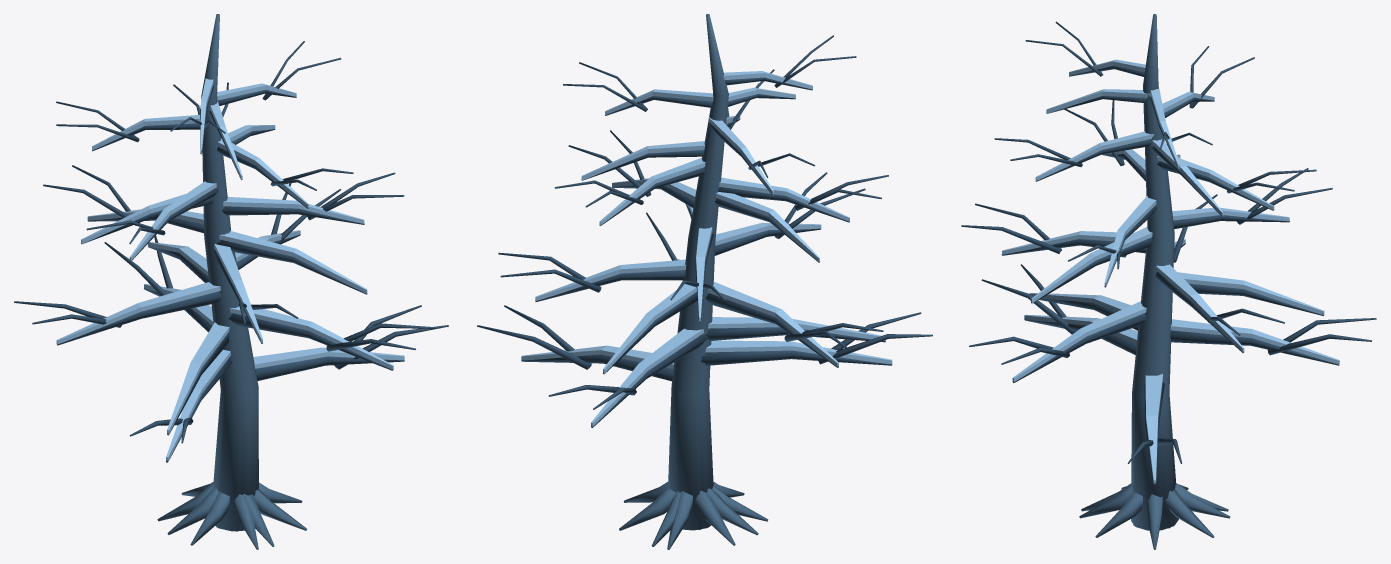
The model's file is tree_willow.glb.
3 views of the same model, side by side, from view 1: azimuth 30°, elevation 25°; view 2: azimuth 150°, elevation 25°; view 3: azimuth 270°, elevation 25° (orthographic). The views are drawn at different scales.
Parts seen in each view (by area): view 1: Near, Far; view 2: Near, Far; view 3: Near, Far.
Boxes of the visible parts, left/top/right/bottom form: Near: left=14, top=14, right=448, bottom=549; Far: left=81, top=14, right=404, bottom=546; Near: left=477, top=14, right=932, bottom=549; Far: left=521, top=14, right=885, bottom=546; Near: left=961, top=14, right=1376, bottom=537; Far: left=1029, top=14, right=1324, bottom=549.
Bounding box in the file's own units: 4.29 × 5.27 × 3.98.
